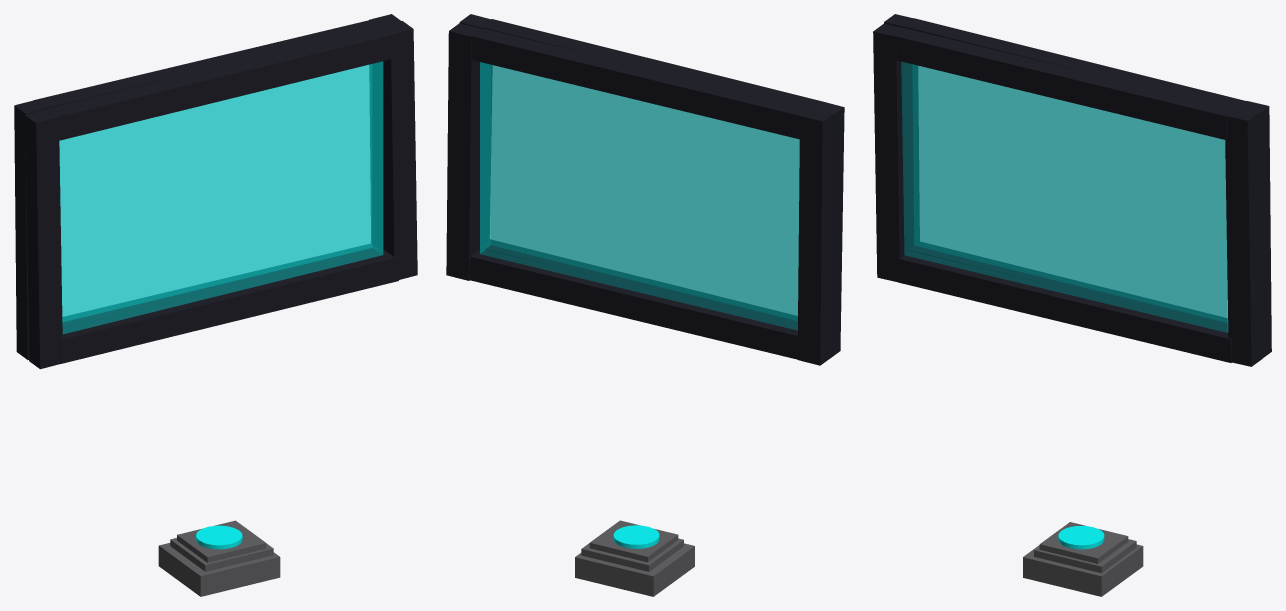
The model's file is FloatingSign.obj.
3 views of the same model, side by side, from view 1: azimuth 30°, elevation 25°; view 2: azimuth 150°, elevation 25°; view 3: azimuth 330°, elevation 25° (orthographic).
Parts seen in each view (by area): view 1: Part5, Part12, Part7, Part13, Part6, Part11, Part9, Part8, Part1, Part10, Part4, Part3 (+1 smaller); view 2: Part5, Part11, Part9, Part8, Part10, Part12, Part7, Part1, Part13, Part6, Part4, Part3 (+1 smaller); view 3: Part5, Part12, Part7, Part6, Part13, Part11, Part9, Part1, Part10, Part8, Part4, Part3 (+1 smaller).
Part boxes in pixels (bbox=[...]): Part5: bbox=[59, 61, 383, 334]; Part12: bbox=[45, 26, 393, 140]; Part7: bbox=[60, 250, 398, 363]; Part13: bbox=[25, 110, 62, 369]; Part6: bbox=[380, 21, 417, 279]; Part11: bbox=[34, 19, 380, 108]; Part9: bbox=[62, 243, 380, 328]; Part8: bbox=[14, 100, 48, 359]; Part1: bbox=[158, 543, 280, 596]; Part10: bbox=[369, 14, 400, 249]; Part4: bbox=[177, 520, 266, 562]; Part3: bbox=[170, 538, 273, 571]; Part5: bbox=[480, 62, 799, 330]; Part11: bbox=[470, 28, 813, 139]; Part9: bbox=[470, 249, 797, 359]; Part8: bbox=[797, 108, 833, 365]; Part10: bbox=[446, 23, 481, 280]; Part12: bbox=[481, 19, 824, 108]; Part7: bbox=[480, 239, 797, 324]; Part1: bbox=[575, 543, 694, 596]; Part13: bbox=[816, 102, 844, 357]; Part6: bbox=[459, 14, 492, 245]; Part4: bbox=[589, 520, 678, 562]; Part3: bbox=[581, 538, 683, 571]; Part5: bbox=[901, 62, 1228, 332]; Part12: bbox=[893, 28, 1236, 140]; Part7: bbox=[897, 251, 1231, 362]; Part6: bbox=[1225, 107, 1262, 366]; Part13: bbox=[873, 23, 910, 281]; Part11: bbox=[903, 18, 1247, 108]; Part9: bbox=[910, 242, 1228, 327]; Part1: bbox=[1023, 544, 1143, 596]; Part10: bbox=[1239, 101, 1271, 357]; Part8: bbox=[884, 14, 919, 247]; Part4: bbox=[1039, 522, 1128, 563]; Part3: bbox=[1034, 539, 1136, 573].
Size of the model in its own units: 19.22 by 24.52 by 3.66.
